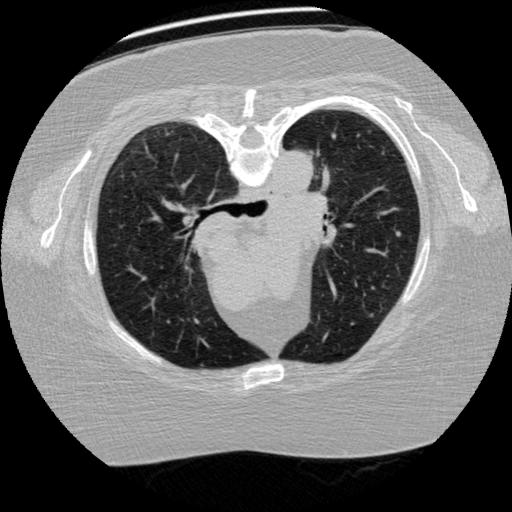nodule: (392, 230, 404, 242)
